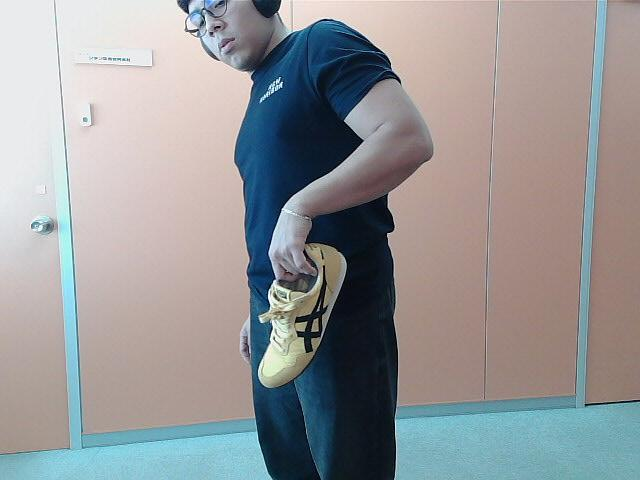Shoes: (259, 236, 347, 398)
